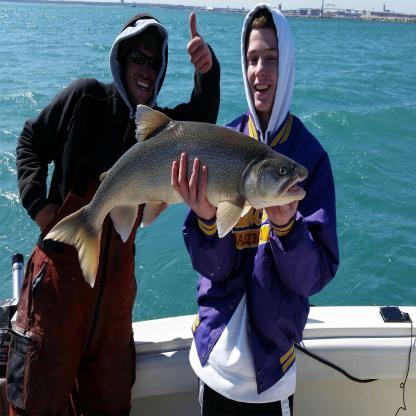fish: (43, 103, 310, 288)
